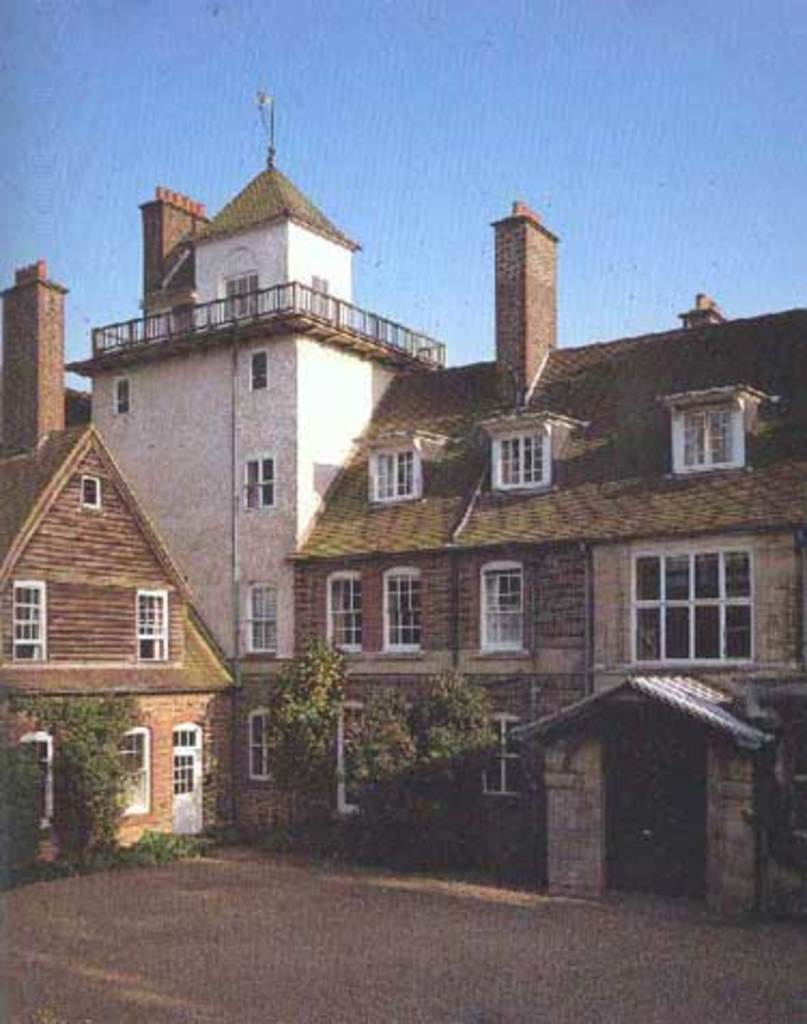Window: (631, 542, 762, 654), (665, 396, 749, 473), (465, 564, 529, 658), (334, 701, 381, 811), (383, 566, 428, 654), (489, 424, 544, 493), (121, 727, 159, 813), (480, 712, 521, 790), (9, 583, 52, 654), (323, 577, 364, 648), (364, 452, 422, 499), (133, 581, 170, 652), (250, 579, 278, 650), (252, 710, 278, 783), (250, 447, 275, 503), (82, 475, 108, 508), (250, 349, 269, 394), (114, 381, 131, 413)
